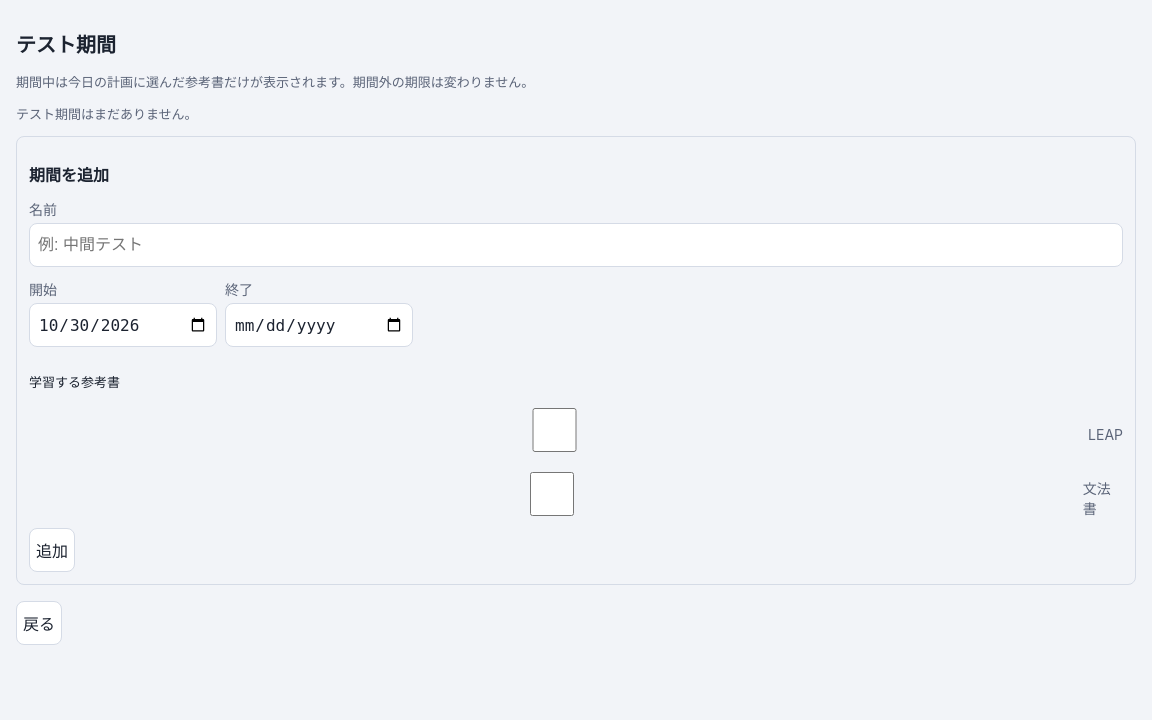
Scenario: FocusPeriodScreen › adds a period with the selected books
This screenshot has width=1152, height=720.
expect the checkbox with test id "focus-book-leap-1" is shown: met, box [29,408,1080,452]
Type "中間テスト" into the field with test id "focus-title".
click(576, 245); type("中間テスト")  # box [29,223,1123,267]
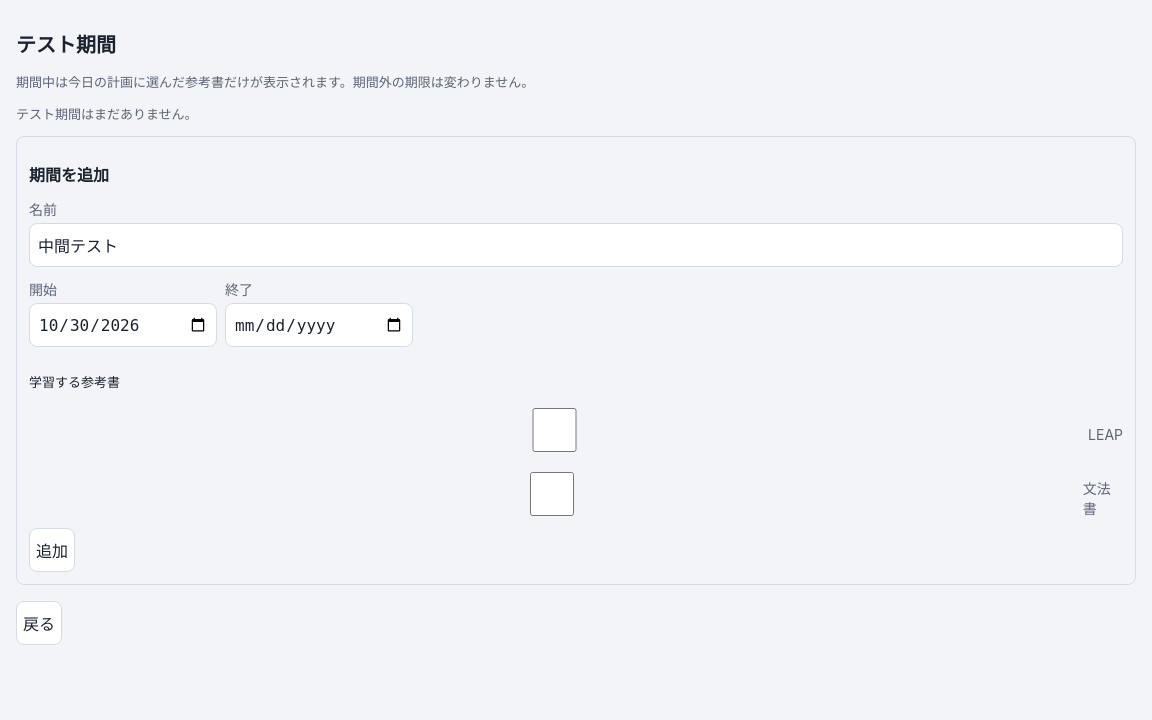
Type "2026-10-01" into the date field with test id "focus-start".
click(123, 325); type("2026-10-01")  # box [29,303,217,347]
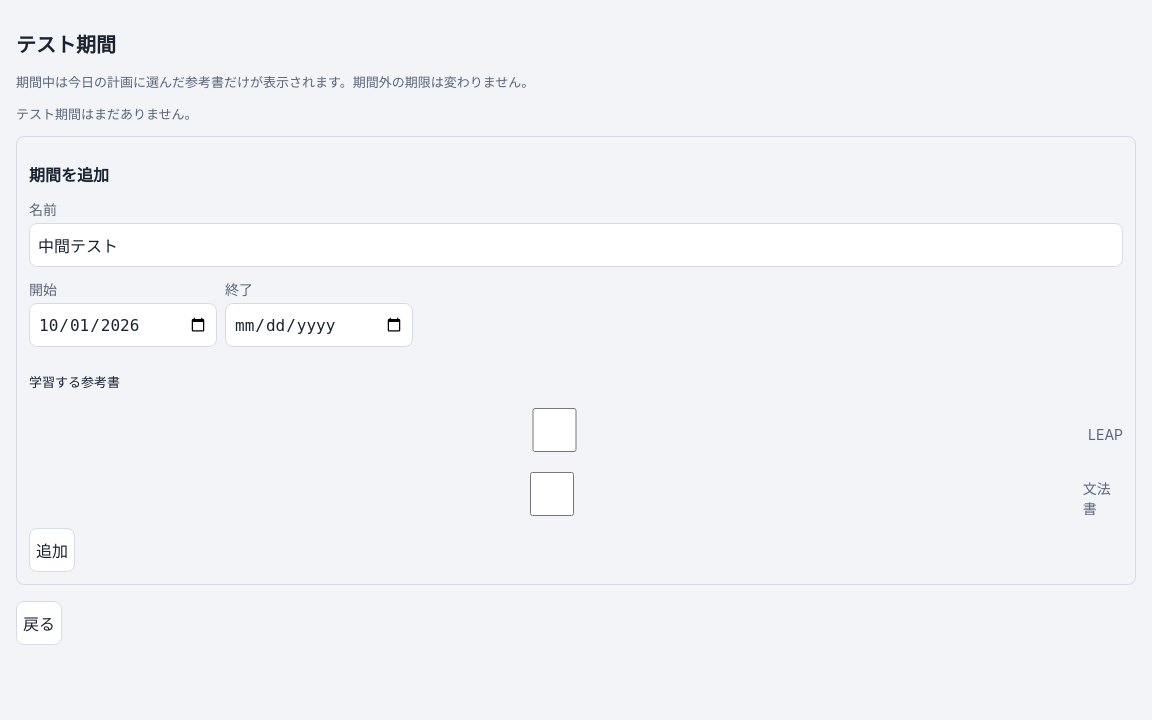
Type "2026-10-14" into the date field with test id "focus-end".
click(319, 325); type("2026-10-14")  # box [225,303,413,347]
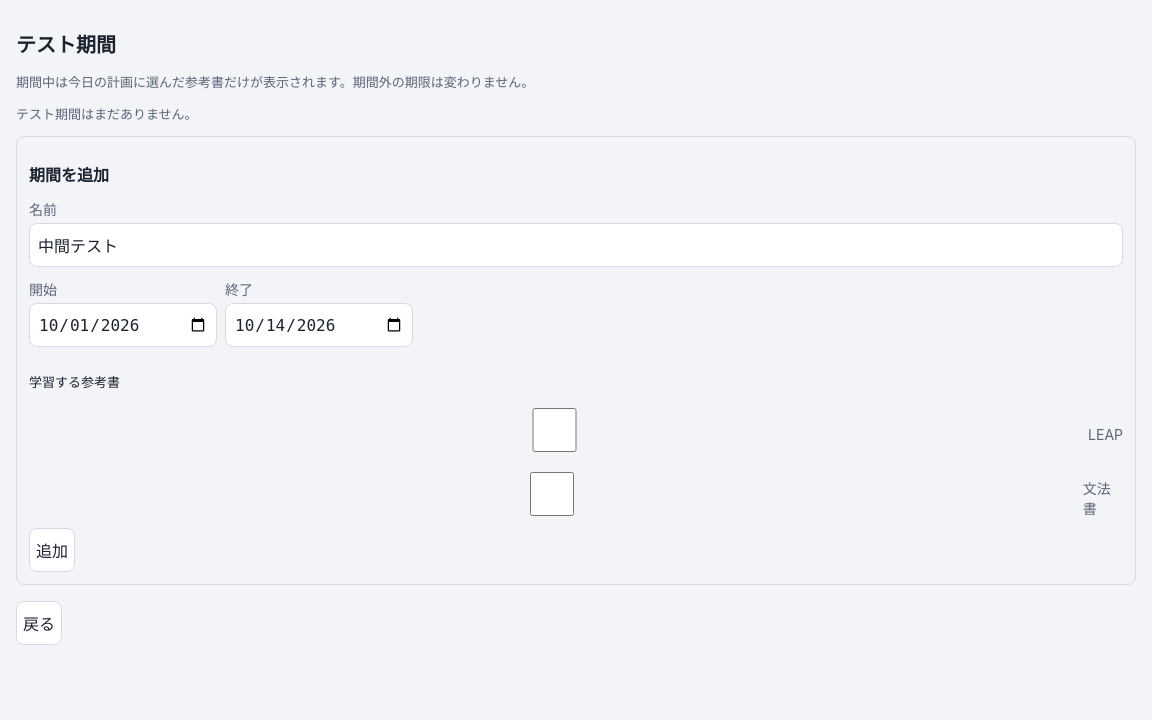
Click the checkbox with test id "focus-book-leap-1".
click(555, 430)  # box [29,408,1080,452]
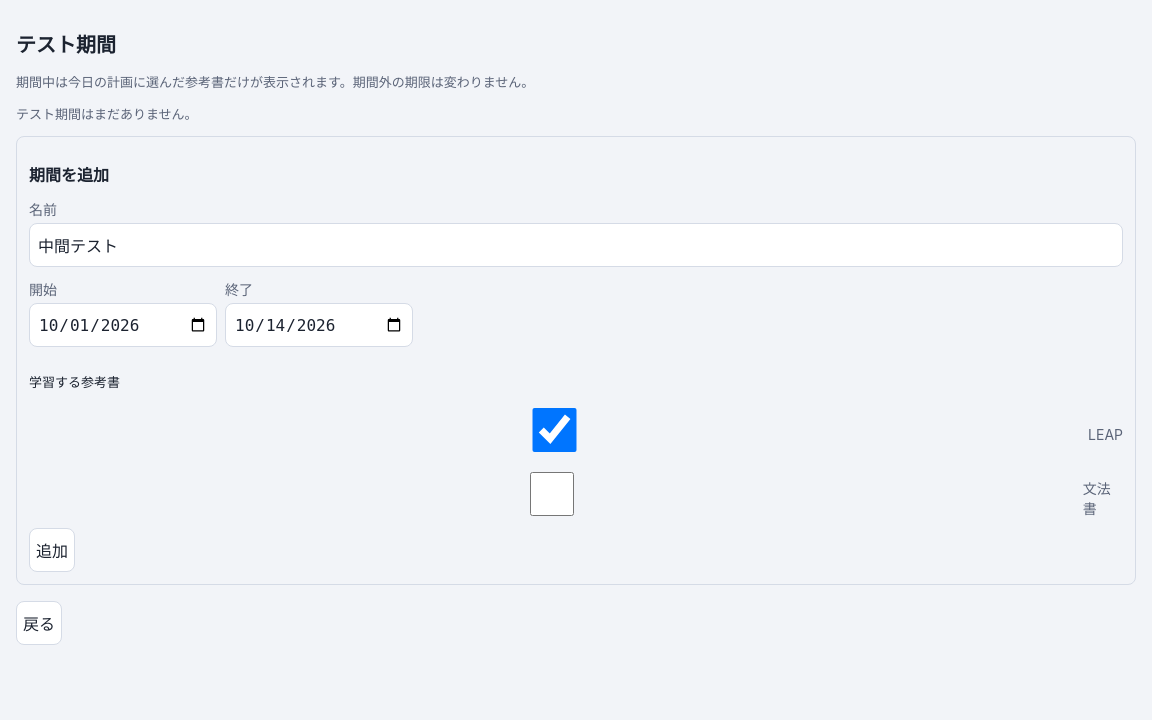
Click the button with test id "focus-add".
click(52, 550)  # box [29,528,75,572]
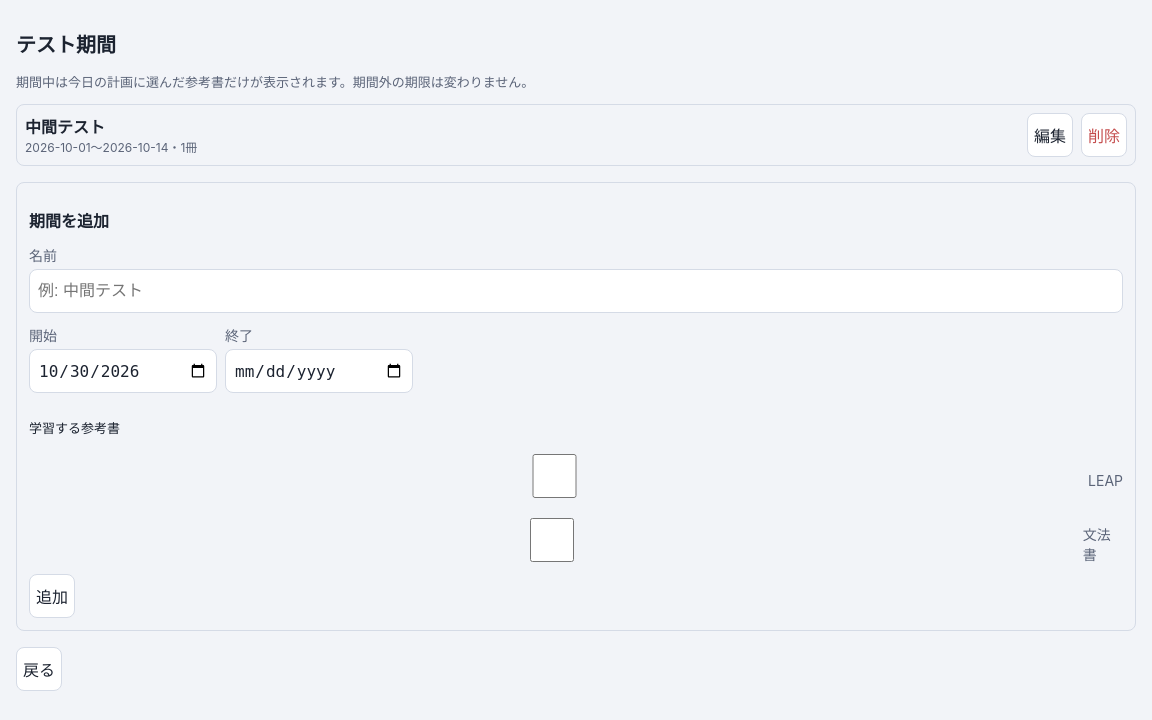
expect the text "中間テスト" is shown: met, box [25,117,105,137]
